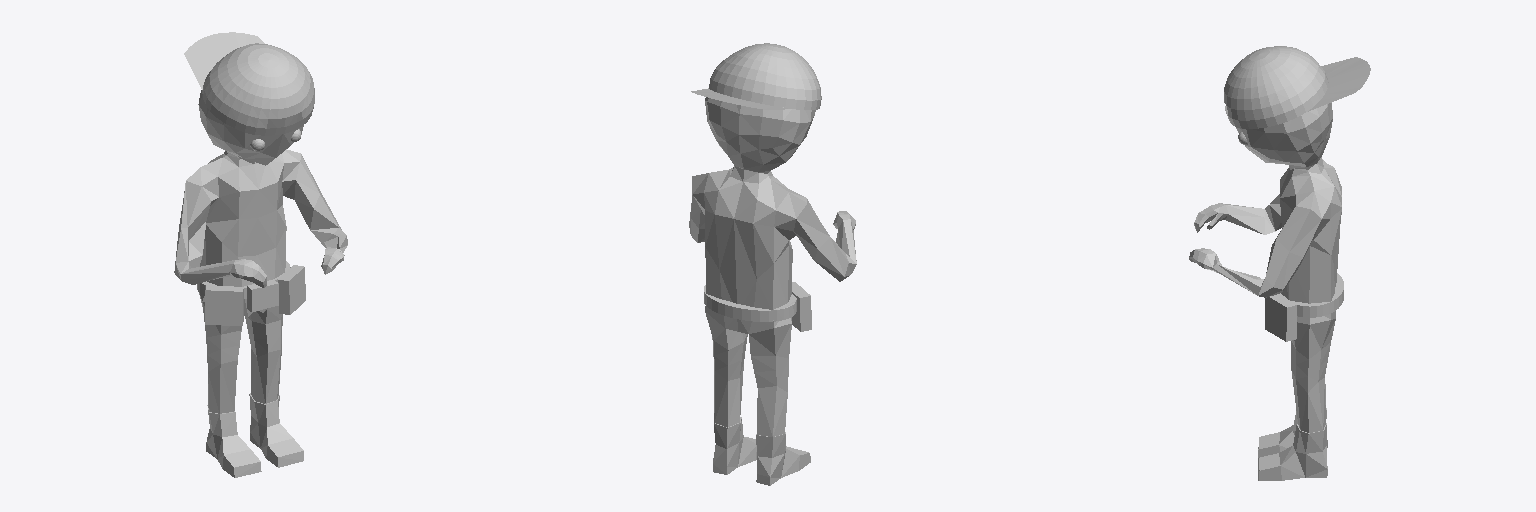
The model's file is Main_Character_Computer_3.obj.
3 renders of one model, left to right at view 1: azimuth 30°, elevation 25°; view 2: azimuth 150°, elevation 25°; view 3: azimuth 270°, elevation 25°, orthographic.
Visible parts, largest first — view 1: Main_Character_Test.003_Main_Character_Test.004; view 2: Main_Character_Test.003_Main_Character_Test.004; view 3: Main_Character_Test.003_Main_Character_Test.004.
Part boxes in pixels (x1,y1,x2,y2): Main_Character_Test.003_Main_Character_Test.004: (174,32,347,477); Main_Character_Test.003_Main_Character_Test.004: (689,43,856,485); Main_Character_Test.003_Main_Character_Test.004: (1189,46,1370,480).
Bounding box in the file's own units: 1.64 × 3.93 × 1.57.